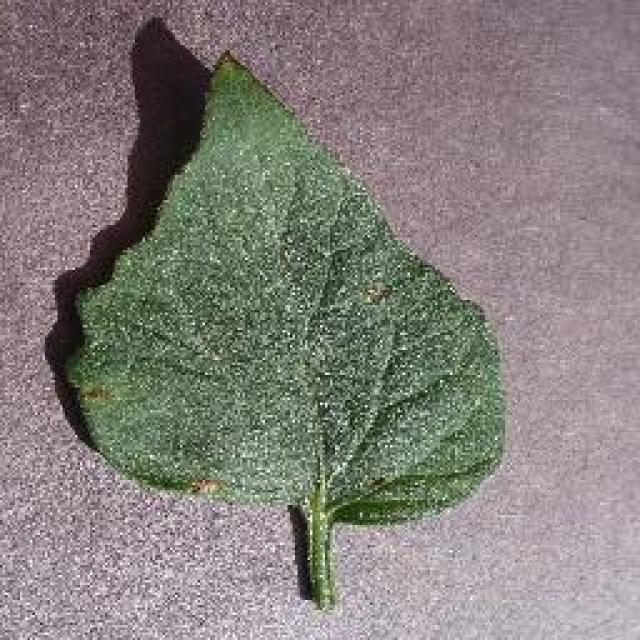Tomato Septoria spot leaf: (64, 51, 508, 526)
